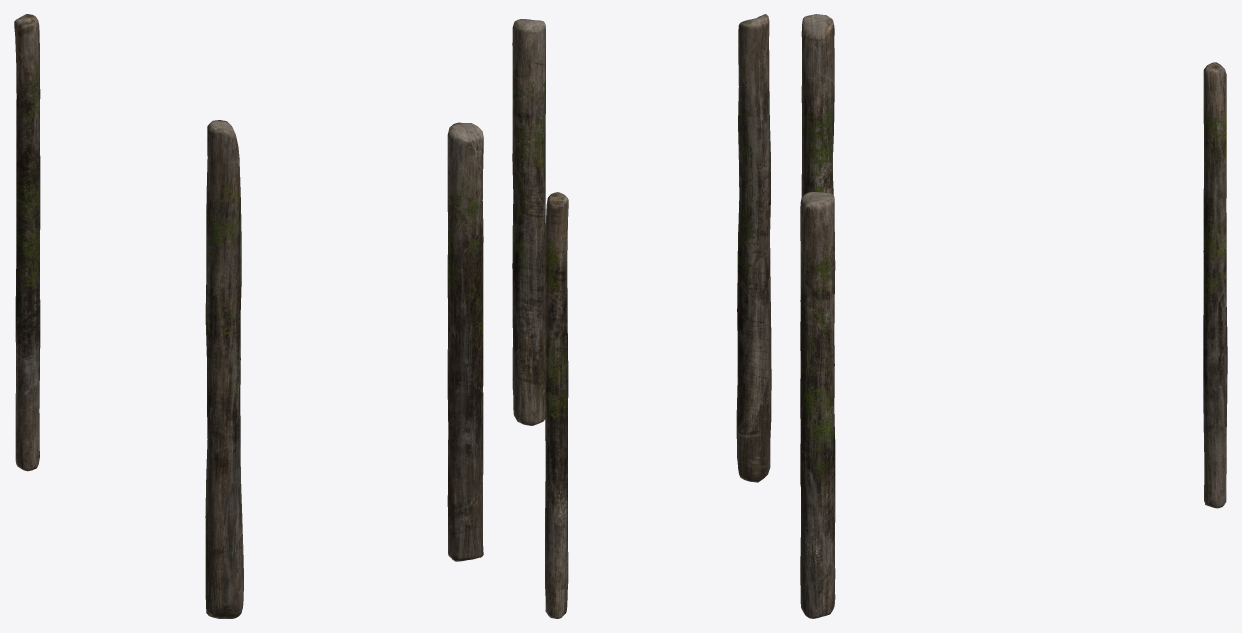
The picture shows the model from 3 angles, left to right: view 1: azimuth 30°, elevation 25°; view 2: azimuth 150°, elevation 25°; view 3: azimuth 270°, elevation 25°; orthographic projection. The views are drawn at different scales.
Visible parts, largest first — view 1: modular_wooden_pier_kit__b_lod0; view 2: modular_wooden_pier_kit__b_lod0; view 3: modular_wooden_pier_kit__b_lod0.
Part boxes in pixels (x1,y1,x2,y2): modular_wooden_pier_kit__b_lod0: (14, 14, 483, 618); modular_wooden_pier_kit__b_lod0: (512, 14, 771, 618); modular_wooden_pier_kit__b_lod0: (800, 14, 1227, 618).
Size of the model in its own units: 2.21 by 3.85 by 3.08.
Materials: 1 (1 with a texture image).
